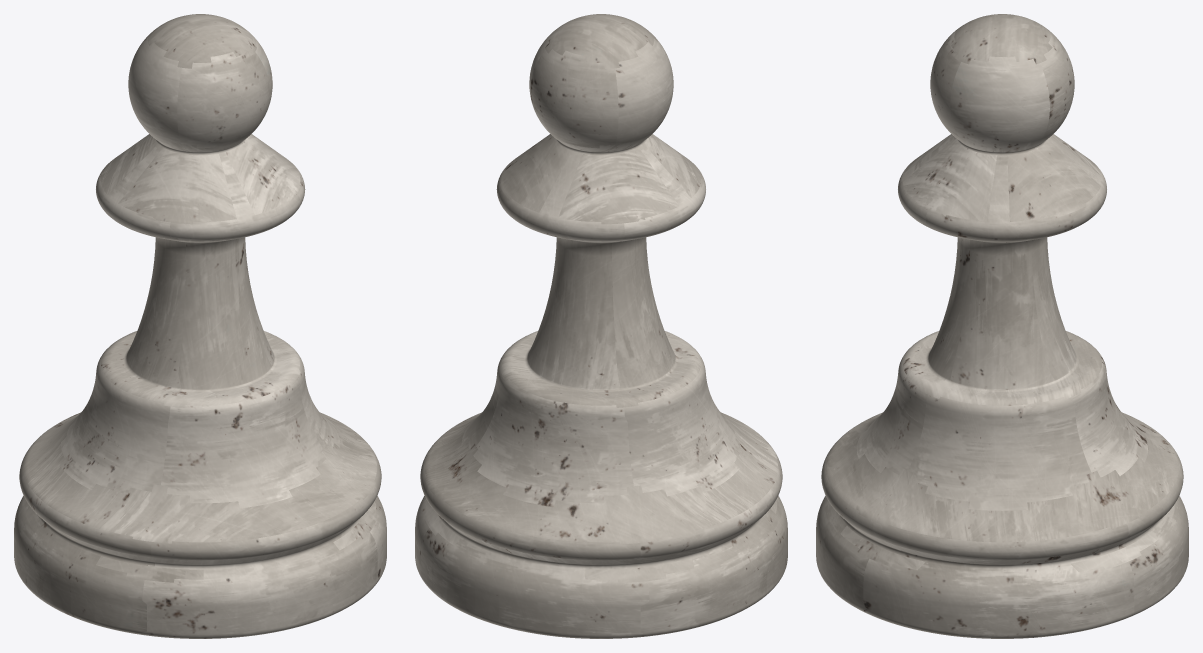
File: wpawn.glb
3 views of the same model, side by side, from view 1: azimuth 30°, elevation 25°; view 2: azimuth 150°, elevation 25°; view 3: azimuth 270°, elevation 25° (orthographic).
Visible parts, largest first — view 1: Pawn; view 2: Pawn; view 3: Pawn.
Part boxes in pixels (bbox=[...]): Pawn: bbox=[14, 14, 386, 638]; Pawn: bbox=[415, 14, 787, 638]; Pawn: bbox=[816, 14, 1188, 638].
Bounding box in the file's own units: 0.025 × 0.04 × 0.025.
1 material, 1 textured.
